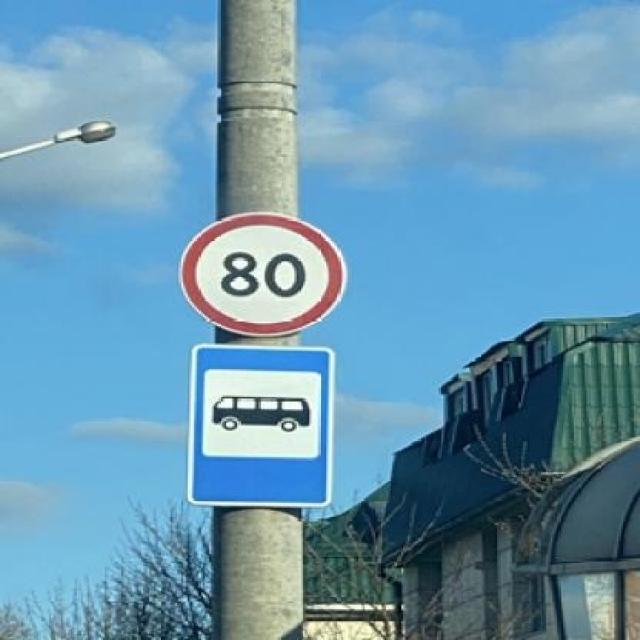forb_speed_over_80: (175, 211, 349, 338)
